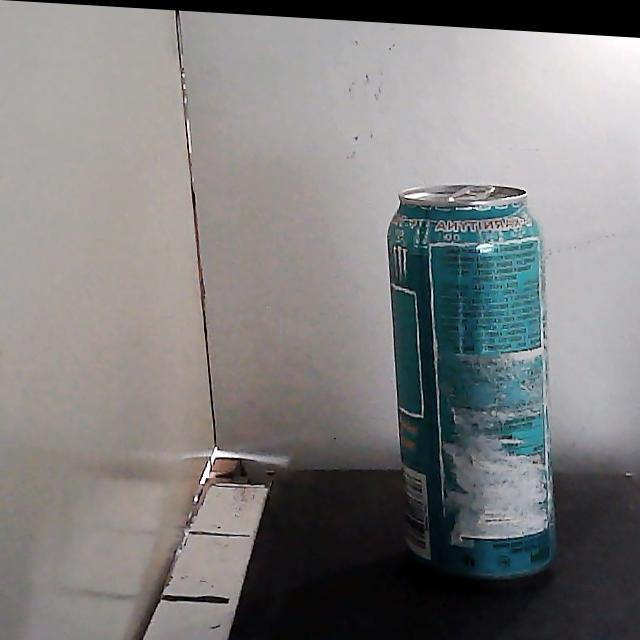metal: (387, 183, 554, 578)
